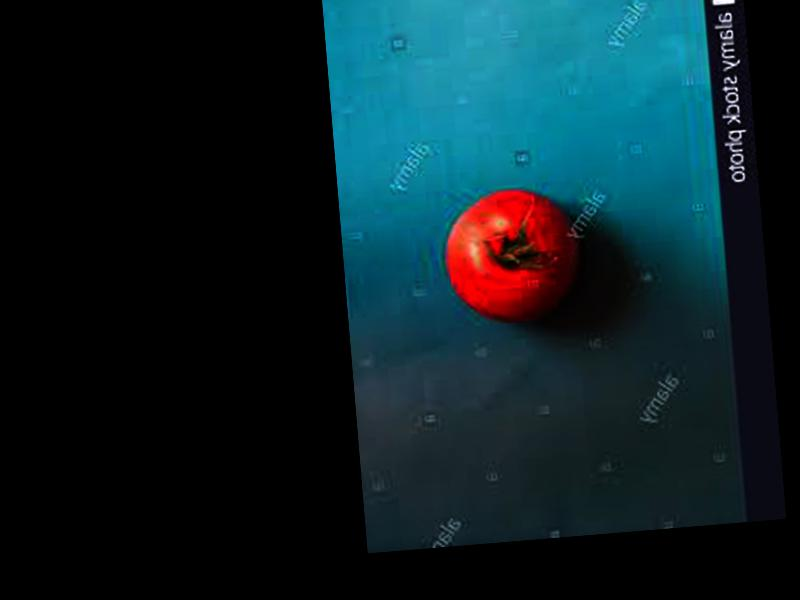Tomato: (439, 184, 585, 325)
